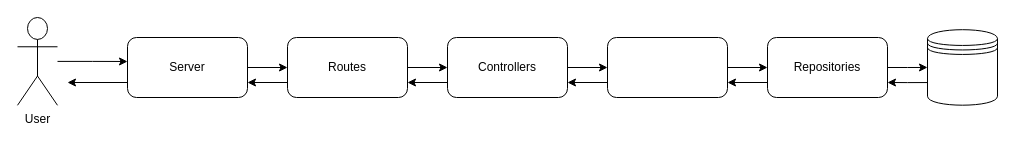
This 1015x144 diagram has some shape labels left out. Each missing label, with the box of its shape:
Database: (926, 29, 998, 105)
Services: (606, 36, 728, 98)
